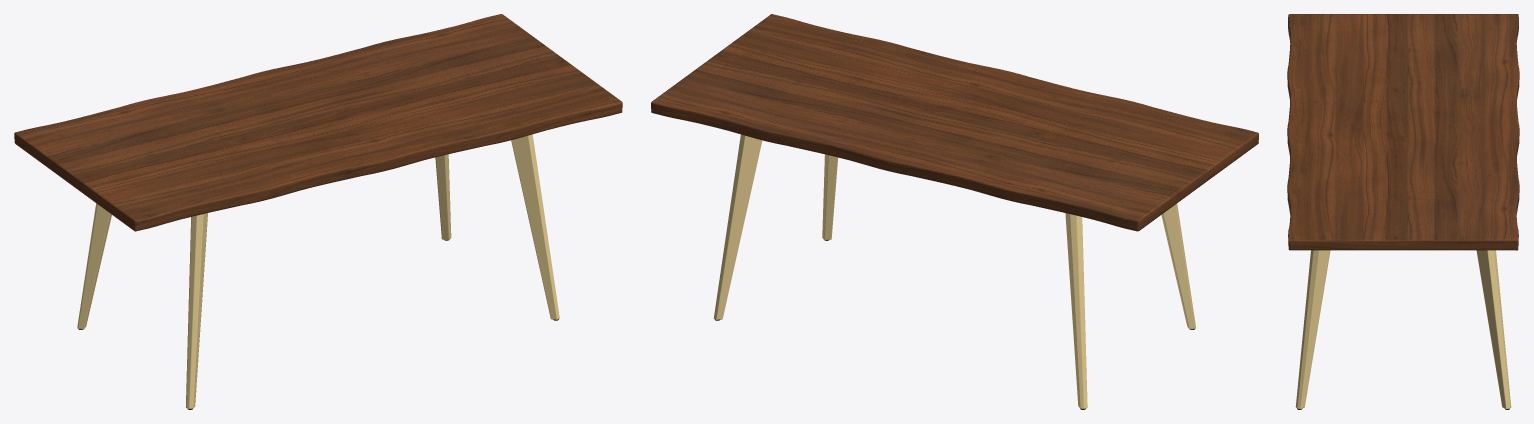
The model's file is diningtable47098.glb.
3 views of the same model, side by side, from view 1: azimuth 30°, elevation 25°; view 2: azimuth 150°, elevation 25°; view 3: azimuth 270°, elevation 25° (orthographic). The views are drawn at different scales.
Visible parts, largest first — view 1: Table; view 2: Table; view 3: Table.
Part boxes in pixels (x1,y1,x2,y2): Table: (14,14,622,409); Table: (651,14,1258,409); Table: (1287,14,1519,409).
Size of the model in its own units: 1.8 by 0.7299 by 0.78.
Materials: 2 (2 with a texture image).
